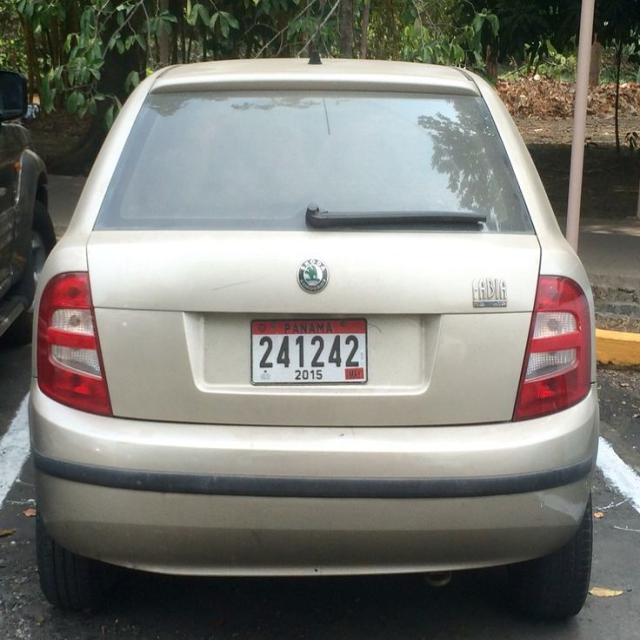Placas: (249, 314, 368, 386)
